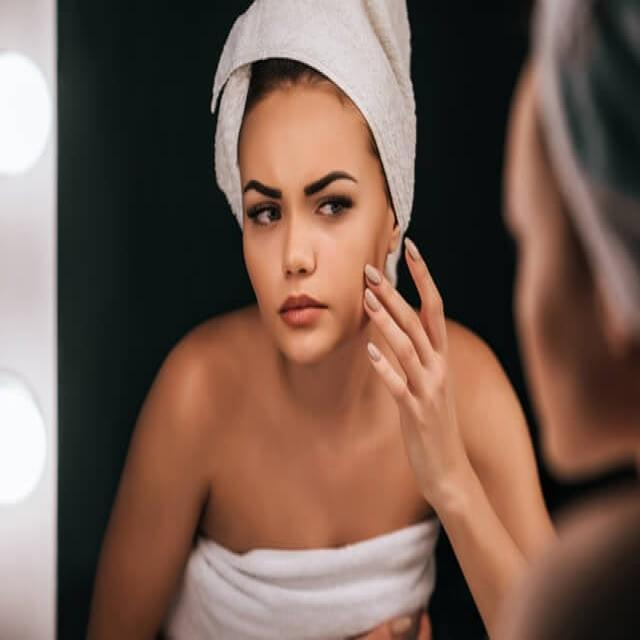normal skin: (248, 118, 377, 364)
